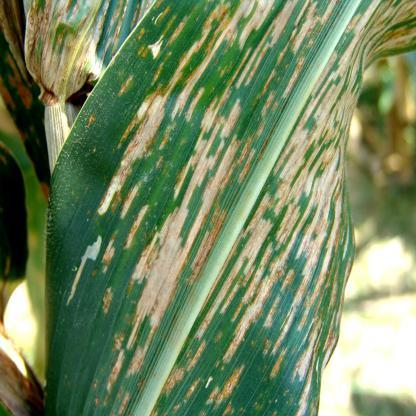Corn Gray leaf spot: (66, 0, 406, 416)
